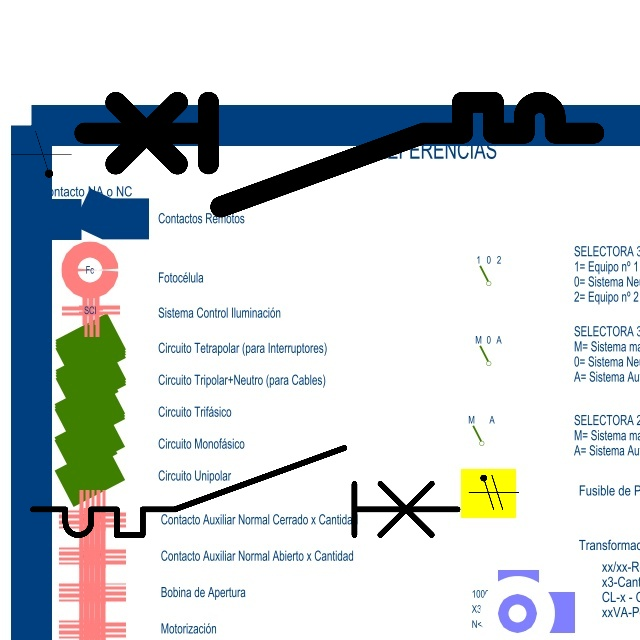interruptor_termomagnetico: (71, 89, 607, 220), (22, 437, 468, 546)
